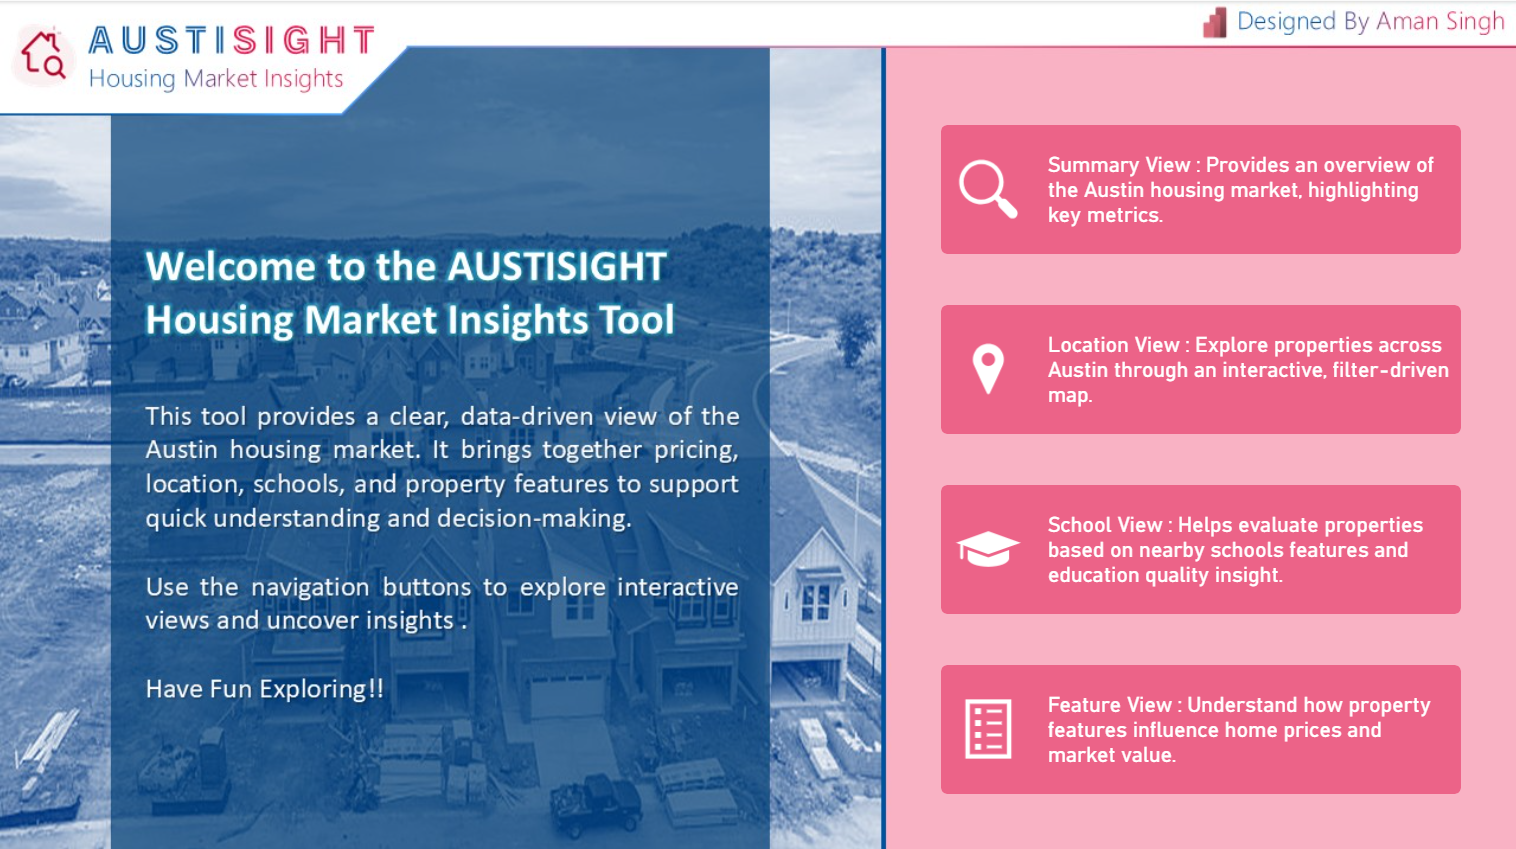

The dashboard page shown, as its layout file describes it:
{"tool":"powerbi","page":{"name":"Home Page","canvas":[1280,720],"ordinal":0},"visuals":[{"type":"actionButton","box":[795,105,438.8,108.8],"z":0},{"type":"actionButton","box":[795,256.7,438.8,108.8],"z":1},{"type":"actionButton","box":[795,408.3,438.8,108.8],"z":2},{"type":"actionButton","box":[795,560,438.8,108.8],"z":3}]}

Visuals, with their boxes in screenshot pixels (x1, y1, x2, y2), scaled from the page's 1280x720 canvas onto the 1516x849 screenshot:
actionButton: box(942, 124, 1461, 252)
actionButton: box(942, 303, 1461, 431)
actionButton: box(942, 481, 1461, 610)
actionButton: box(942, 660, 1461, 789)
